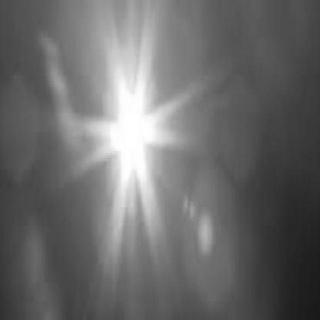other: (104, 63, 160, 181)
